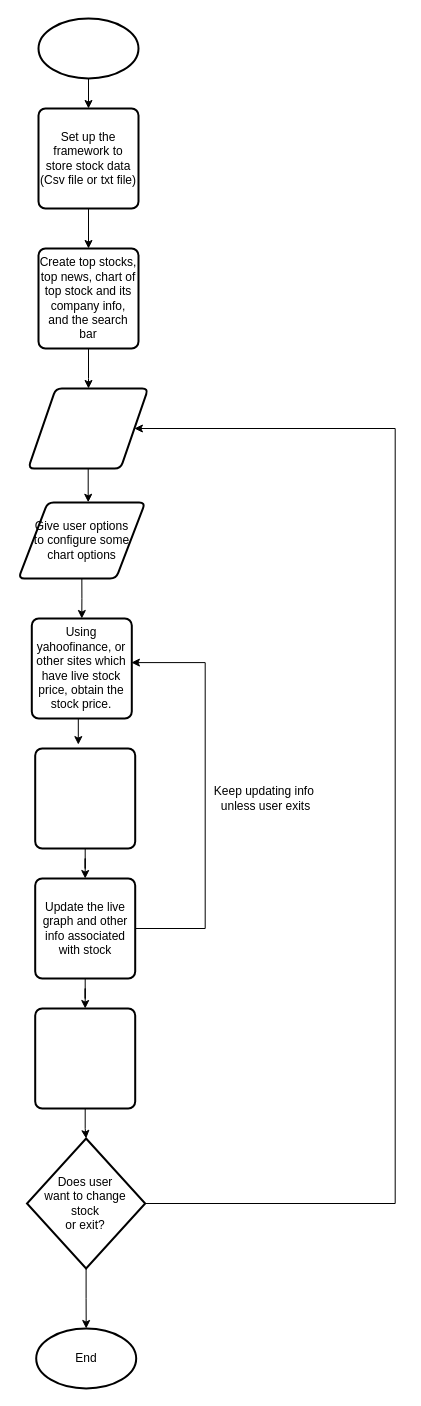
This 421x1406 diagram has some shape labels left out. Each missing label, with the centre of its shape:
"Scroll the x-axis so keep up with the price / time movement" goes at point (85, 1058).
"Start" goes at point (88, 48).
"Store info in external file" goes at point (85, 798).
"User types in name of stock in searchbar" goes at point (88, 428).
